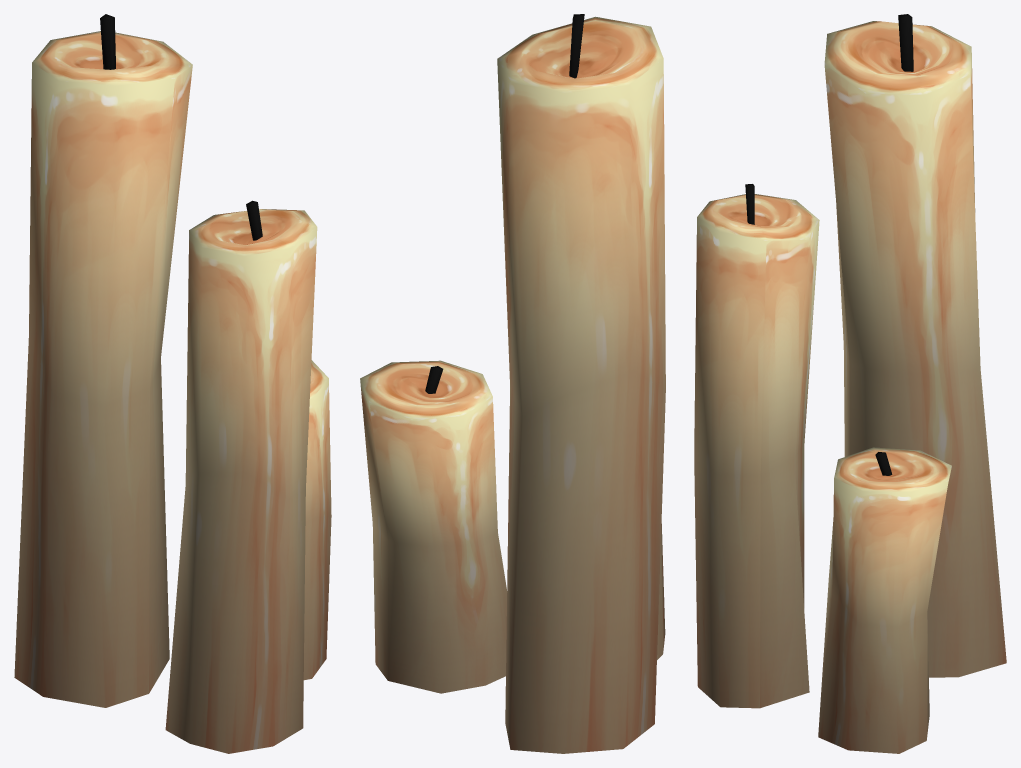
Rendered from SM_PROP_candle_06.fbx.
The picture shows the model from 3 angles, left to right: view 1: azimuth 30°, elevation 25°; view 2: azimuth 150°, elevation 25°; view 3: azimuth 270°, elevation 25°; orthographic projection. The views are drawn at different scales.
Visible parts, largest first — view 1: SM_PROP_candle_06; view 2: SM_PROP_candle_06; view 3: SM_PROP_candle_06.
Part boxes in pixels (<box>): SM_PROP_candle_06: <box>14,14,331,753</box>; SM_PROP_candle_06: <box>360,14,665,753</box>; SM_PROP_candle_06: <box>694,14,1006,753</box>.
Bounding box in the file's own units: 21.51 × 50.23 × 22.03.
